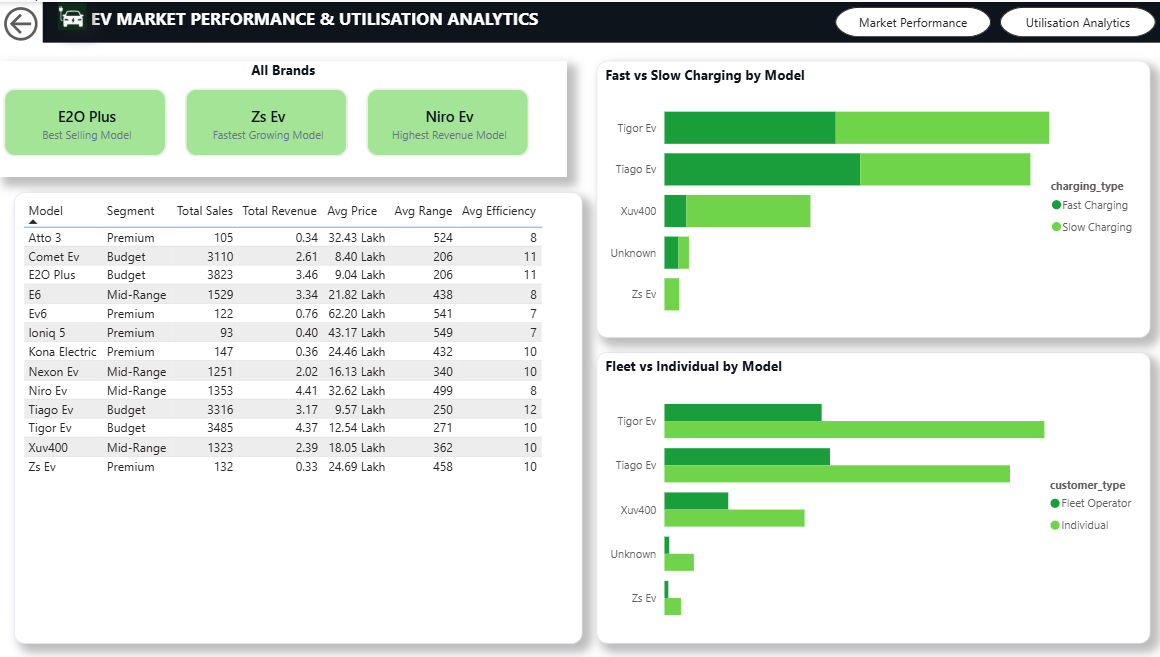

The dashboard page shown, as its layout file describes it:
{"tool":"powerbi","page":{"name":"Model Drill-Through","canvas":[1280,720],"ordinal":2},"visuals":[{"type":"cardVisual","fields":{"Data":["vehicle.Best Selling Model","vehicle.Fastest Growing Model","vehicle.Highest Revenue Model"]},"box":[0,64,624,128],"z":0},{"type":"shape","box":[0,0,1280,44.6],"z":1000},{"type":"textbox","box":[96,0,544,48],"z":2000},{"type":"image","box":[13.3,0,42.2,33.8],"z":3000},{"type":"pageNavigator","box":[918.1,6,353.5,33.8],"z":4000},{"type":"tableEx","fields":{"Values":["vehicle.model","segment.segment","fact.Total EV Sales","fact.Total Revenue","fact.Avg Price","fact.Avg Range KM","fact.Avg_Efficiency"]},"box":[16,208,624,496],"z":5000},{"type":"clusteredBarChart","title":"Fleet vs Individual by Model","fields":{"Category":["vehicle.model"],"Y":["fact.Total EV Sales"],"Series":["usage.customer_type"]},"box":[656,384,608,320],"z":7000},{"type":"barChart","title":"Fast vs Slow Charging by Model","fields":{"Category":["vehicle.model"],"Y":["fact.Total EV Sales"],"Series":["vehicle.charging_type"]},"box":[656,64,608,304],"z":8000},{"type":"actionButton","box":[0,0,80,48],"z":9000}]}

Visuals, with their boxes in screenshot pixels (x1, y1, x2, y2), scaled from the page's 1280x720 canvas onto the 1160x657 screenshot:
cardVisual - vehicle.Best Selling Model x vehicle.Fastest Growing Model: (x1=0, y1=58, x2=566, y2=175)
shape: (x1=0, y1=0, x2=1159, y2=41)
textbox: (x1=87, y1=0, x2=580, y2=44)
image: (x1=12, y1=0, x2=50, y2=31)
pageNavigator: (x1=832, y1=5, x2=1152, y2=36)
tableEx - vehicle.model x segment.segment: (x1=14, y1=190, x2=580, y2=642)
"Fleet vs Individual by Model" clusteredBarChart: (x1=594, y1=350, x2=1146, y2=642)
"Fast vs Slow Charging by Model" barChart: (x1=594, y1=58, x2=1146, y2=336)
actionButton: (x1=0, y1=0, x2=72, y2=44)
